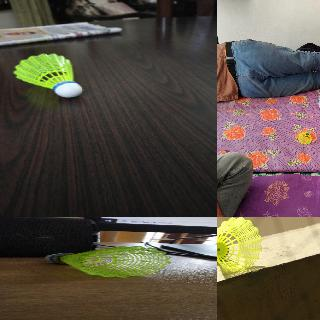shuttlecock: (46, 246, 171, 277), (14, 54, 82, 97), (217, 217, 263, 272), (298, 130, 312, 144)
